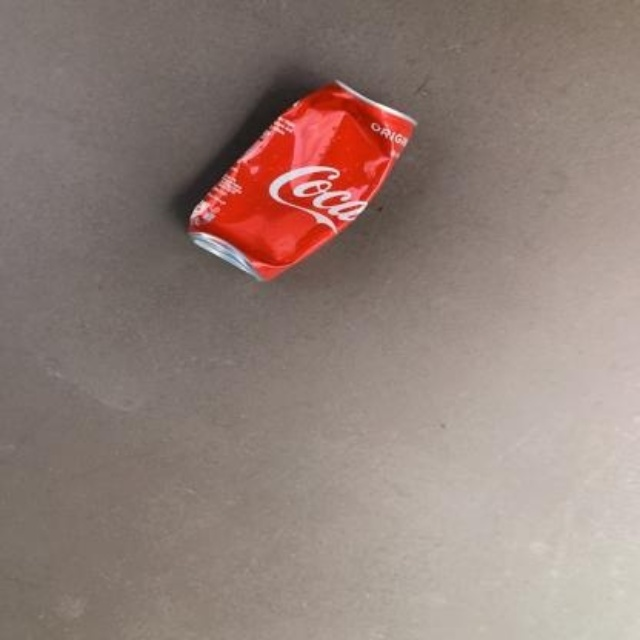trash: (189, 82, 414, 278)
